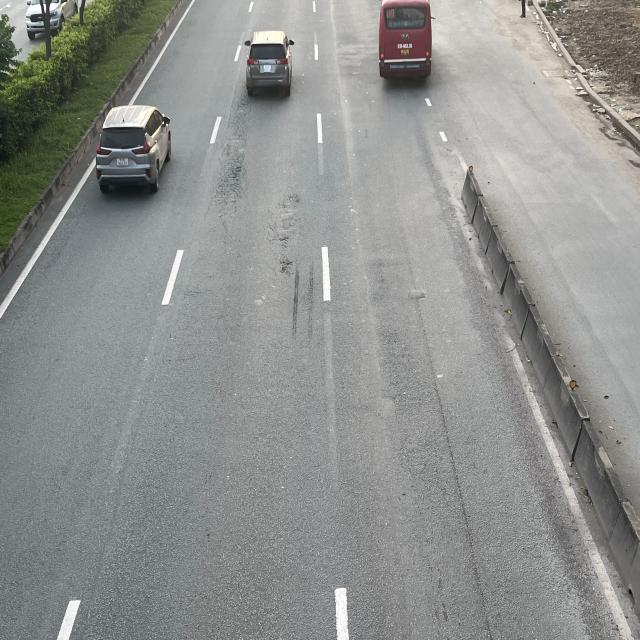car: (96, 105, 174, 195), (244, 31, 296, 97)
coach: (381, 0, 436, 82)
